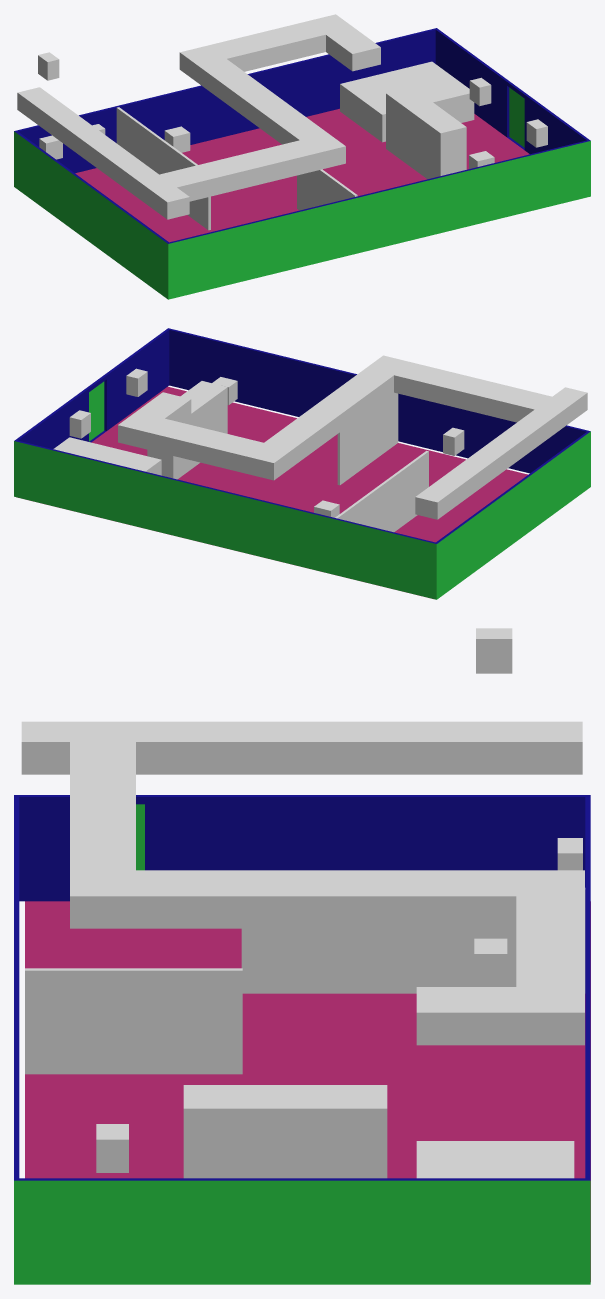
The model's file is Nivel3.FBX.
3 views of the same model, one above another, from view 1: azimuth 30°, elevation 25°; view 2: azimuth 150°, elevation 25°; view 3: azimuth 270°, elevation 25° (orthographic). The views are drawn at different scales.
Visible parts, largest first — view 1: Pared, Box001, Suelo, Asset, Elevador, Pared1, Pared2, Palanca003, Enemigo, Palanca004, Palanca005, Palanca1 Plataforma; view 2: Pared, Box001, Suelo, Pared1, Pared2, Asset, Elevador, Palanca003, Palanca004, Palanca005; view 3: Pared, Box001, Suelo, Pared2, Asset, Pared1, Elevador, Palanca005, Enemigo, Enemigo001, Palanca1 Plataforma.
Part boxes in pixels (x1=…): Pared: x1=14, y1=28, x2=590, y2=299; Box001: x1=17, y1=14, x2=380, y2=219; Suelo: x1=75, y1=108, x2=529, y2=242; Asset: x1=386, y1=87, x2=466, y2=179; Elevador: x1=340, y1=61, x2=474, y2=142; Pared1: x1=116, y1=107, x2=210, y2=230; Pared2: x1=297, y1=169, x2=357, y2=210; Palanca003: x1=469, y1=77, x2=491, y2=106; Enemigo: x1=164, y1=126, x2=190, y2=152; Palanca004: x1=526, y1=119, x2=547, y2=147; Palanca005: x1=38, y1=52, x2=59, y2=80; Palanca1 Plataforma: x1=39, y1=135, x2=62, y2=159; Pared: x1=14, y1=328, x2=590, y2=599; Box001: x1=118, y1=355, x2=587, y2=519; Suelo: x1=18, y1=386, x2=527, y2=599; Pared1: x1=335, y1=450, x2=428, y2=532; Pared2: x1=337, y1=392, x2=398, y2=485; Asset: x1=147, y1=381, x2=227, y2=479; Elevador: x1=53, y1=437, x2=161, y2=475; Palanca003: x1=69, y1=410, x2=90, y2=438; Palanca004: x1=126, y1=368, x2=147, y2=396; Palanca005: x1=443, y1=427, x2=464, y2=455; Pared: x1=14, y1=795, x2=590, y2=1284; Box001: x1=21, y1=721, x2=584, y2=1045; Suelo: x1=25, y1=901, x2=590, y2=1281; Pared2: x1=25, y1=968, x2=242, y2=1074; Asset: x1=183, y1=1085, x2=387, y2=1178; Pared1: x1=241, y1=888, x2=585, y2=993; Elevador: x1=416, y1=1141, x2=574, y2=1178; Palanca005: x1=476, y1=628, x2=512, y2=673; Enemigo: x1=474, y1=938, x2=507, y2=986; Enemigo001: x1=96, y1=1124, x2=128, y2=1172; Palanca1 Plataforma: x1=557, y1=838, x2=582, y2=870.
Bounding box in the file's own units: 672 × 222 × 425.
